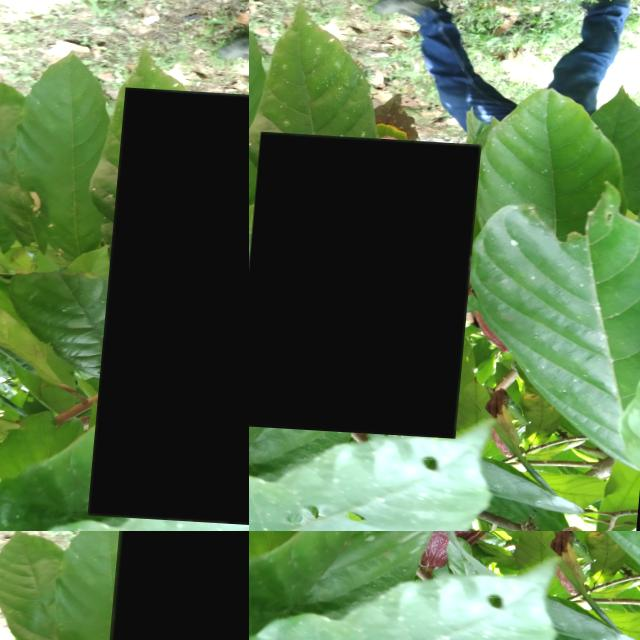Fitoftora: (249, 128, 484, 432)
Monilia: (93, 531, 249, 640)
Sana: (97, 84, 249, 525), (249, 0, 321, 148), (249, 203, 286, 274), (114, 586, 133, 640)
